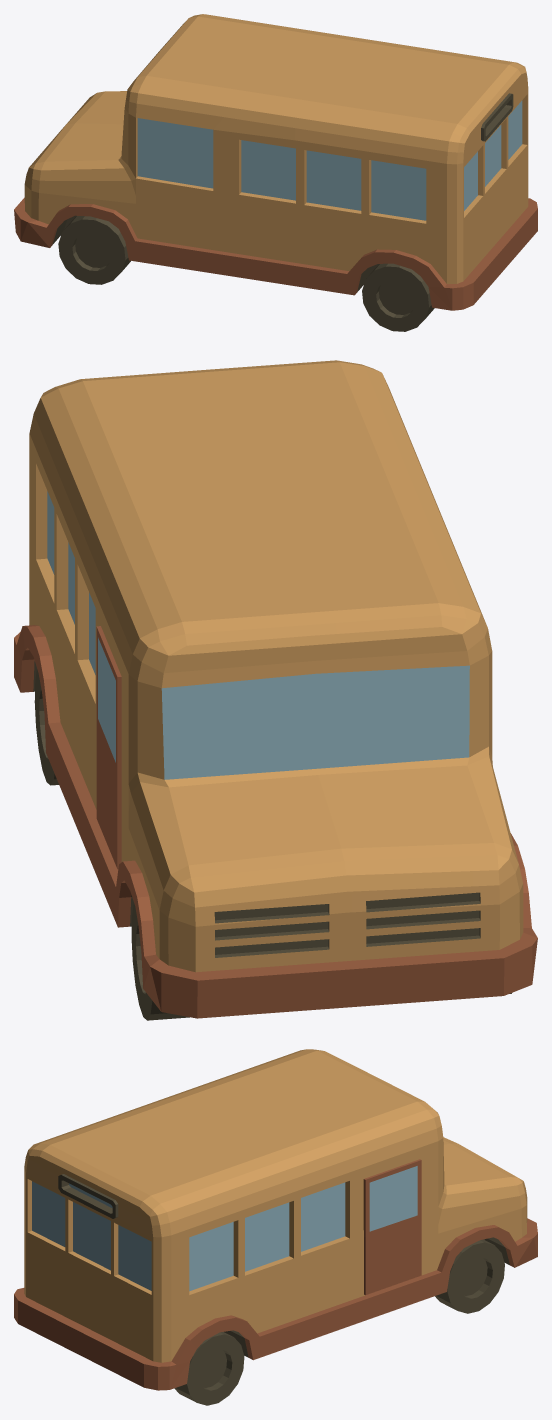
3 views of the same model, one above another, from view 1: azimuth 30°, elevation 25°; view 2: azimuth 150°, elevation 25°; view 3: azimuth 270°, elevation 25° (orthographic). The views are drawn at different scales.
Visible parts, largest first — view 1: bus; view 2: bus; view 3: bus.
Part boxes in pixels (left/top/right/bottom): bus: left=14, top=14, right=537, bottom=331; bus: left=14, top=360, right=537, bottom=1020; bus: left=14, top=1049, right=537, bottom=1405.
Bounding box in the file's own units: 277 × 133 × 296.
